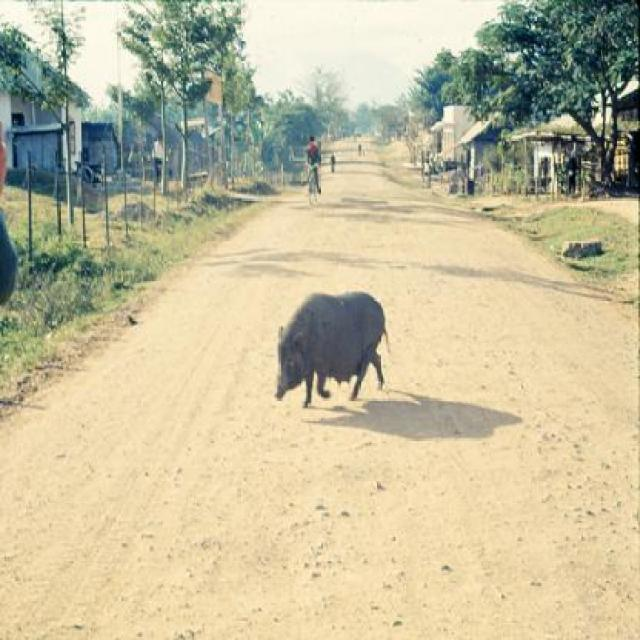pig: (274, 291, 391, 403)
